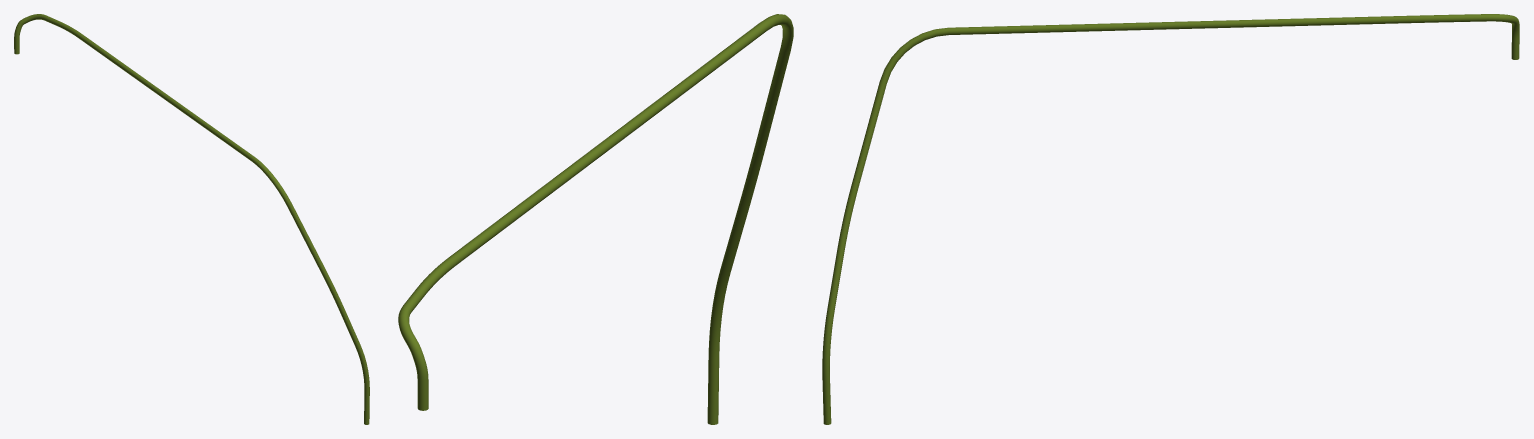
3 renders of one model, left to right at view 1: azimuth 30°, elevation 25°; view 2: azimuth 150°, elevation 25°; view 3: azimuth 270°, elevation 25°, orthographic. The views are drawn at different scales.
Parts seen in each view (by area): view 1: Line002; view 2: Line002; view 3: Line002.
Part boxes in pixels (x1,y1,x2,y2): Line002: (14, 14, 369, 424); Line002: (398, 14, 793, 424); Line002: (822, 14, 1519, 424).
Bounding box in the file's own units: 11.06 × 25.45 × 45.3.
1 material, 1 textured.
